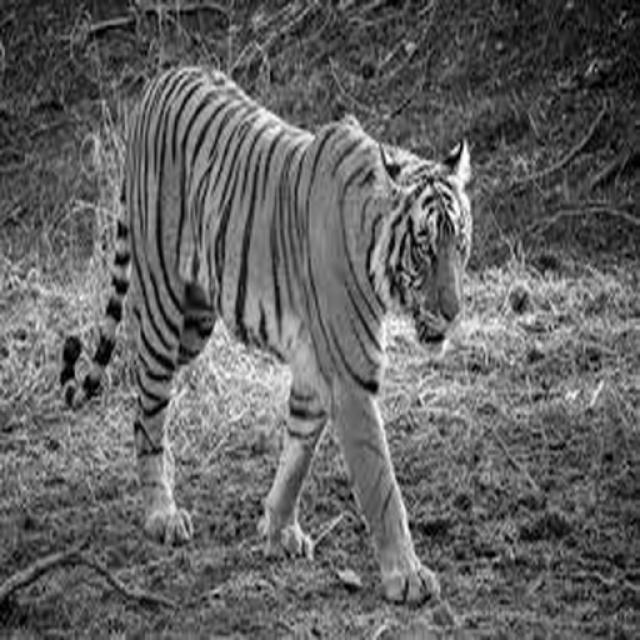Tiger: (56, 62, 475, 608)
